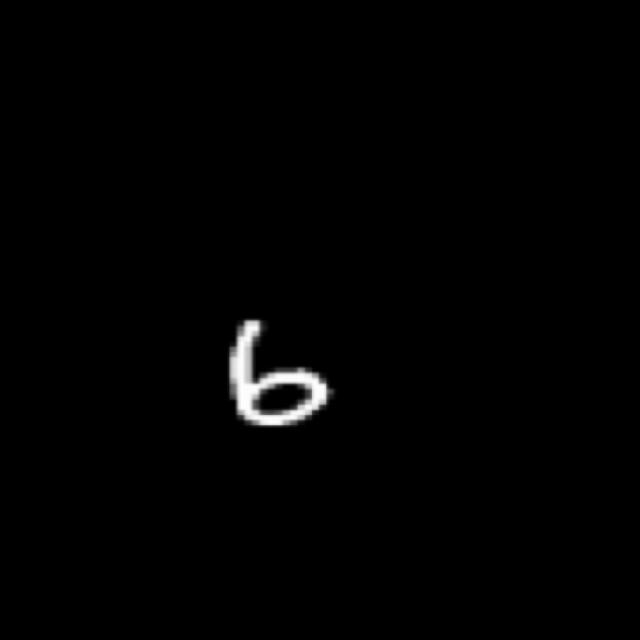six -6-: (211, 314, 346, 429)
